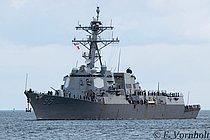MIL_Ship: (21, 7, 201, 121)
